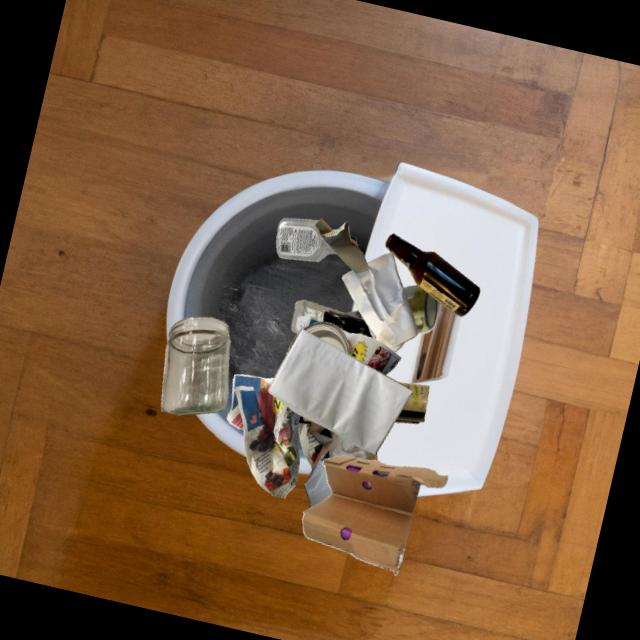cardboard: (302, 455, 447, 575), (314, 218, 368, 274)
glass: (385, 233, 479, 316), (161, 316, 230, 416), (286, 321, 351, 356), (403, 285, 437, 335), (396, 382, 429, 422), (298, 415, 311, 424), (394, 419, 420, 423)
paper: (268, 329, 412, 454), (226, 374, 300, 499), (304, 327, 371, 460), (341, 252, 417, 352), (303, 421, 377, 508)
plastic: (291, 299, 373, 338), (276, 218, 329, 261)
